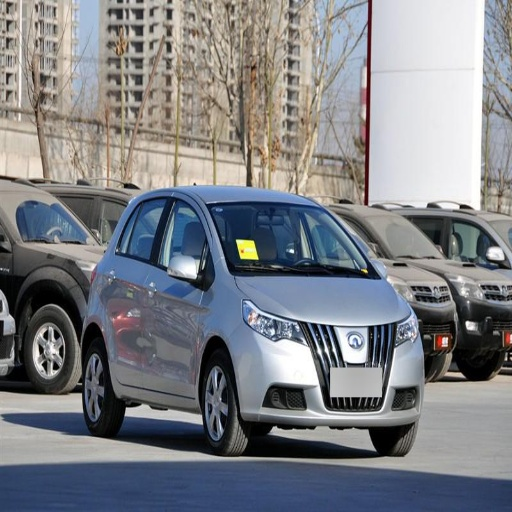front_bumper: (233, 322, 421, 427)
front_right_door: (146, 195, 213, 396)
front_right_light: (243, 301, 306, 344)
